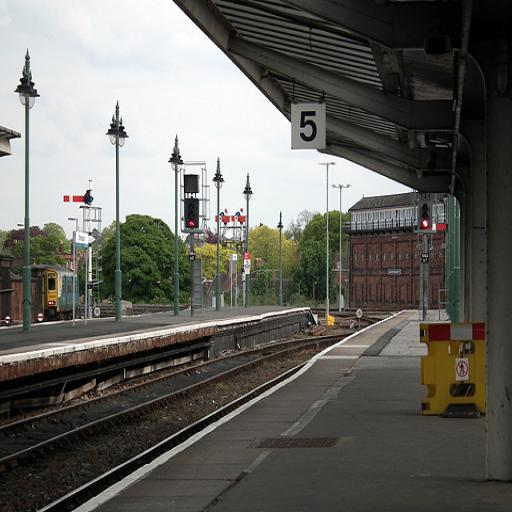platform_edge: (77, 390, 325, 512), (0, 328, 176, 362)
